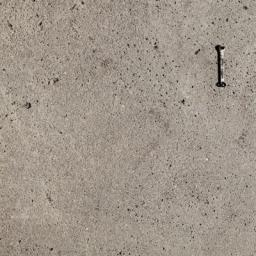FOD: (212, 43, 233, 90)
